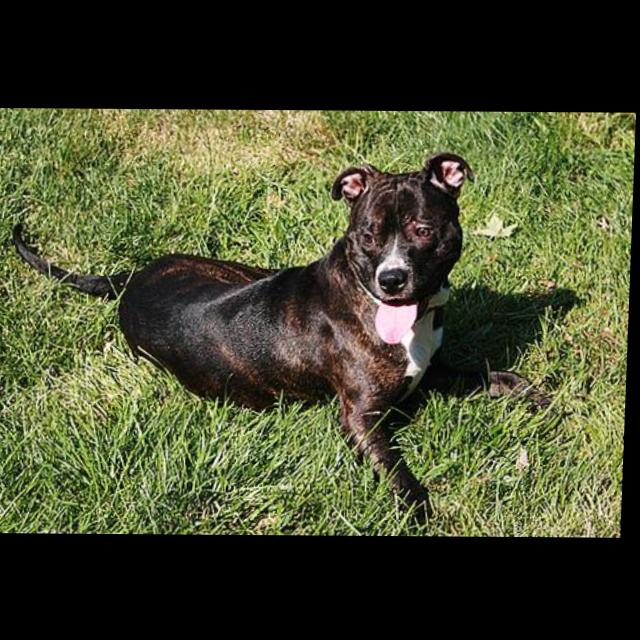amstaff: (8, 149, 563, 526)
